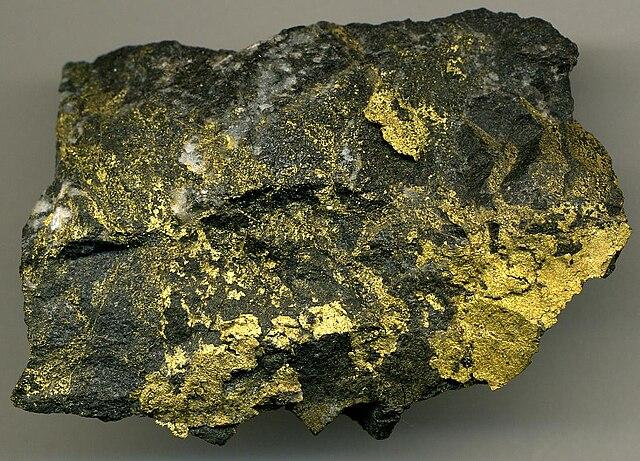gold: (9, 7, 639, 450)
